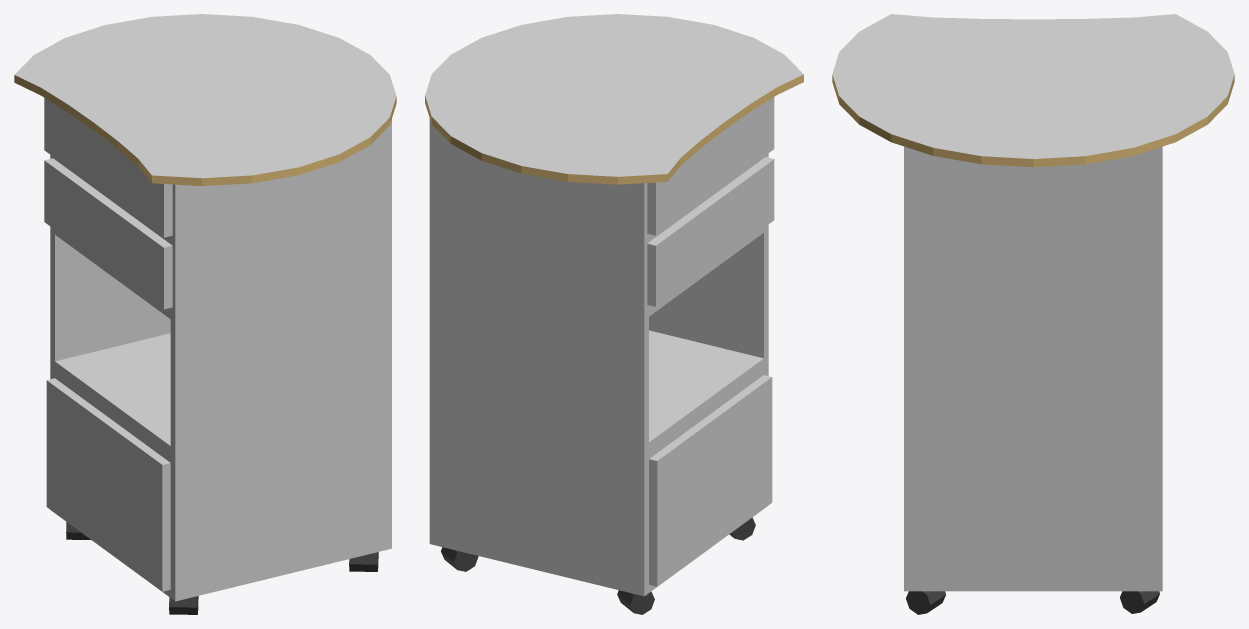
Rendered from teacher_table.glb.
The picture shows the model from 3 angles, left to right: view 1: azimuth 30°, elevation 25°; view 2: azimuth 150°, elevation 25°; view 3: azimuth 270°, elevation 25°; orthographic projection. The views are drawn at different scales.
Parts seen in each view (by area): view 1: teacher table; view 2: teacher table; view 3: teacher table.
Boxes of the visible parts, left/top/right/bottom form: teacher table: left=14, top=14, right=396, bottom=614; teacher table: left=425, top=14, right=803, bottom=614; teacher table: left=832, top=14, right=1234, bottom=614.
Bounding box in the file's own units: 0.6749 × 1.04 × 0.7907.
